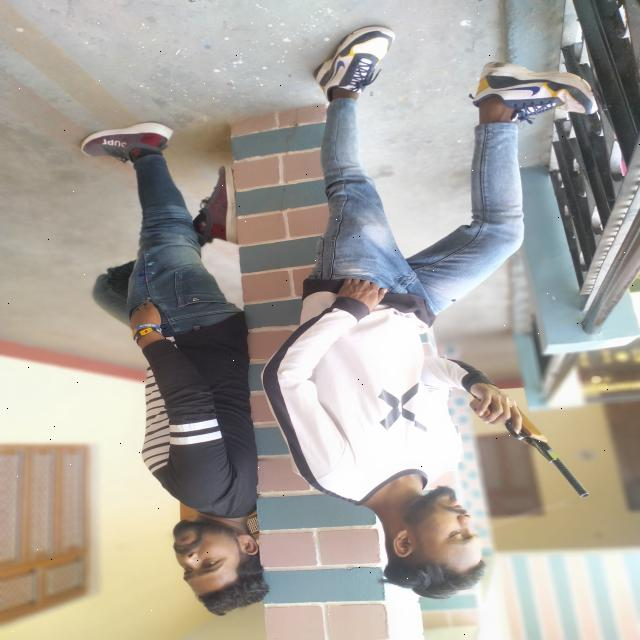gun: (455, 364, 605, 510)
